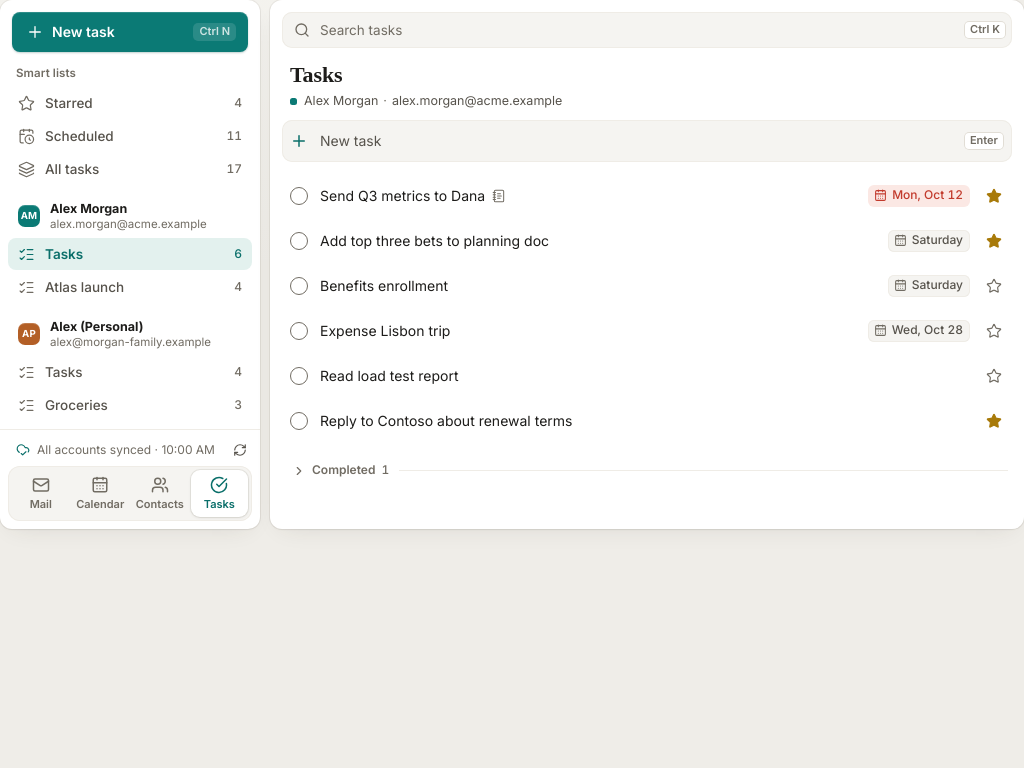
Test: Task lists › groups Scheduled tasks into Overdue, Today, Tomorrow, This week and Later
The width and height of the screenshot is (1024, 768).
Expected: the list "lists" is shown, 0,56 -> 260,429
Click the option "Scheduled 11": (79, 136) 18,128 -> 242,144
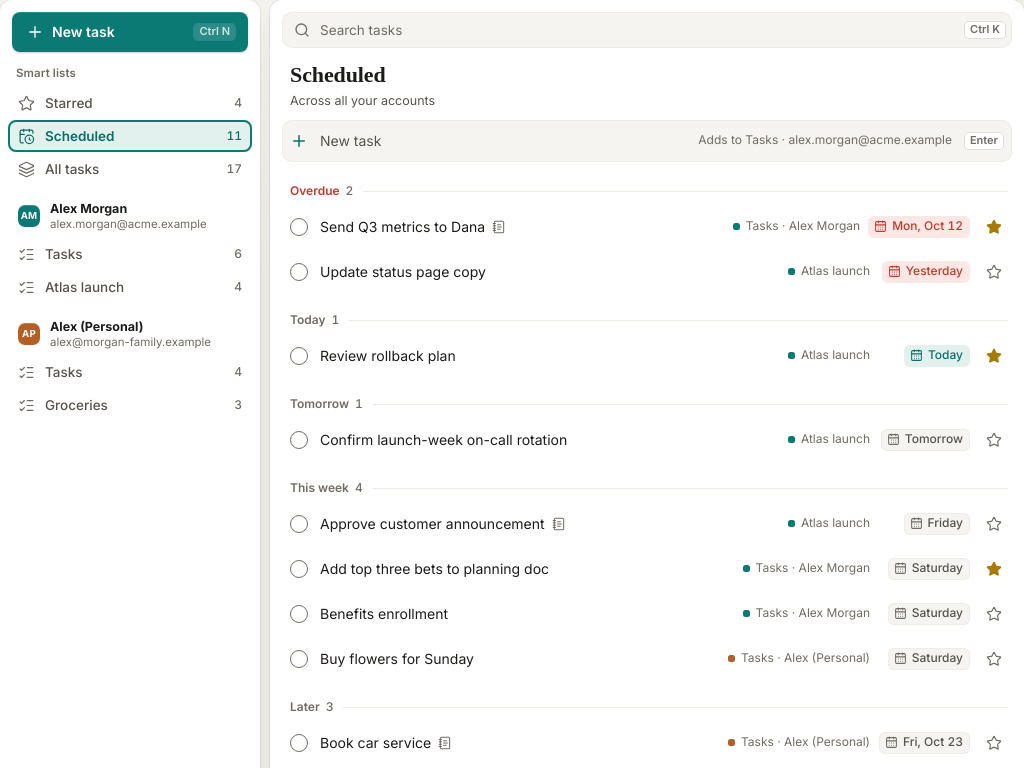
Expected: the option "Approve customer announcement Atlas launch Friday" is shown, 290,512 -> 1006,536
Expected: the option "Book car service Tasks · Alex (Personal) Fri, Oct 23" is shown, 290,731 -> 1006,755
